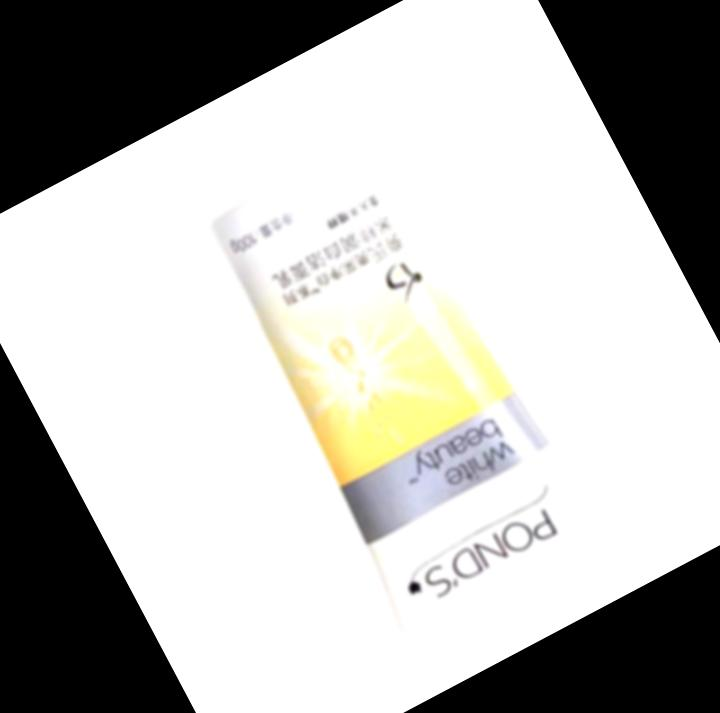cosmetic: (146, 47, 631, 672)
